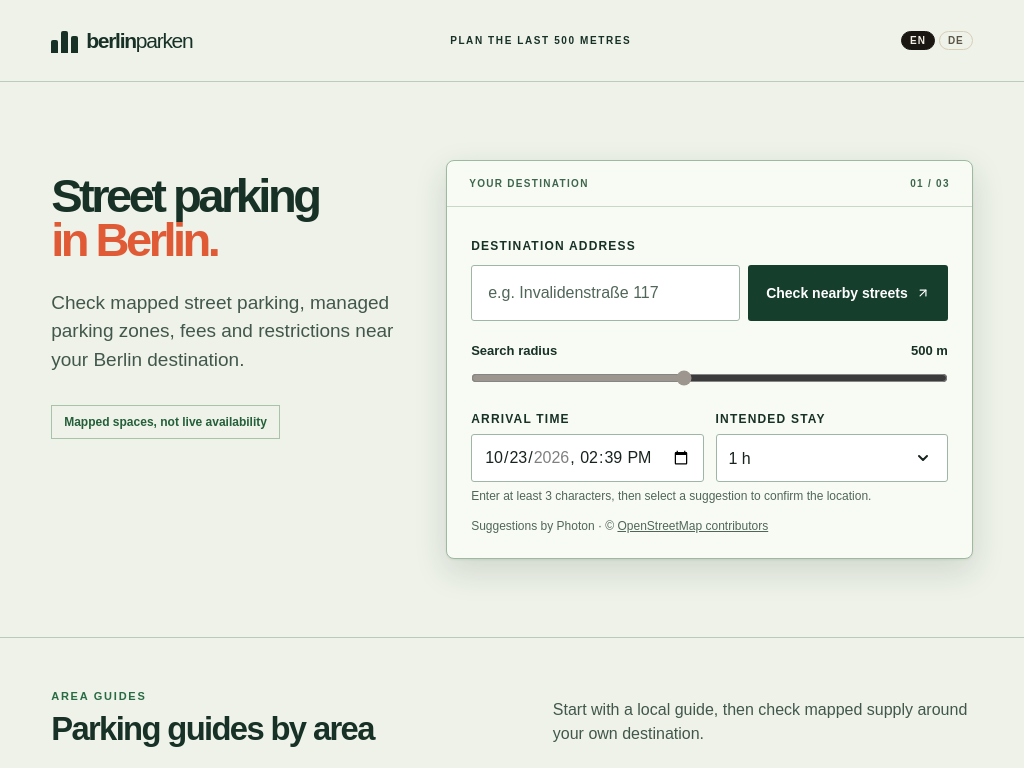
Test: SignalPage › retries the same query and returns focus to the address field
Type "Alexanderplatz" into the dropdown labelled "Destination address" at [606, 293], box left=471, top=265, right=740, bottom=321
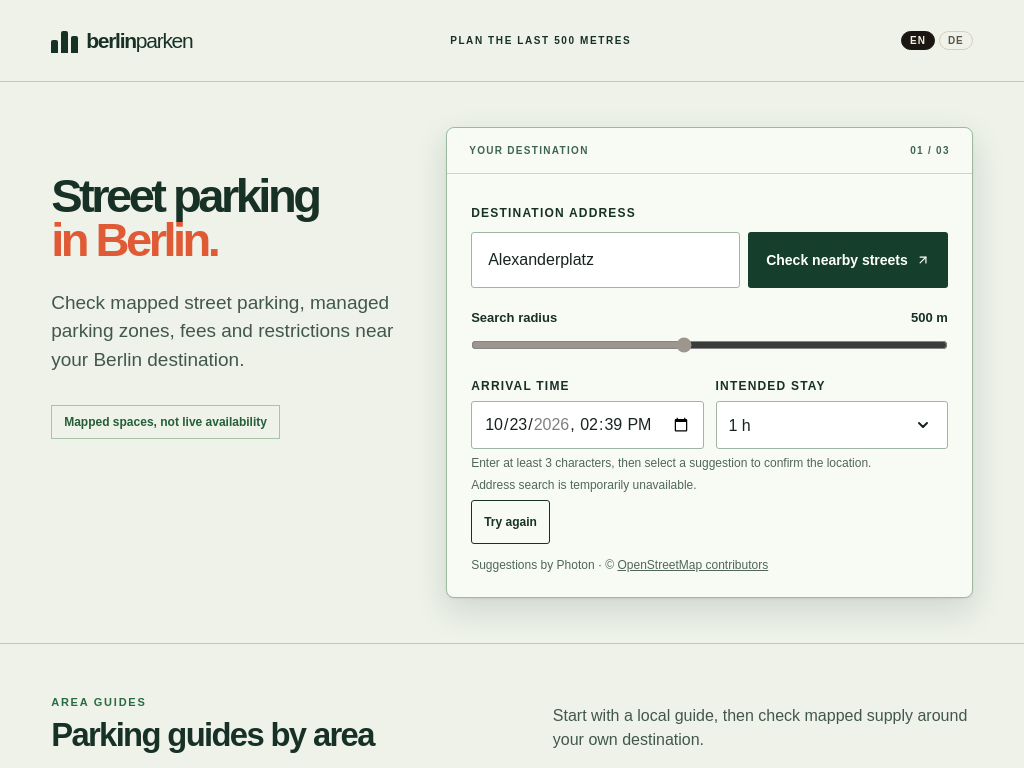
Click the button "Try again" at [511, 522], box left=471, top=500, right=550, bottom=544
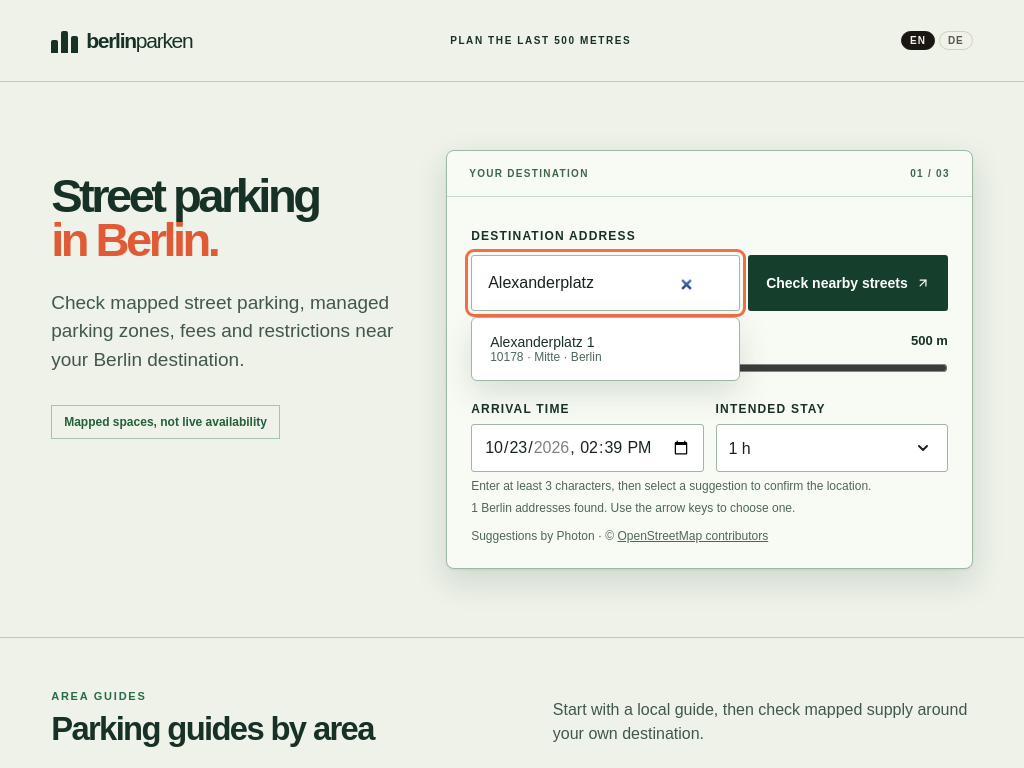
expect the option "Alexanderplatz 1 10178 · Mitte · Berlin" is shown: met, box left=490, top=334, right=602, bottom=364
